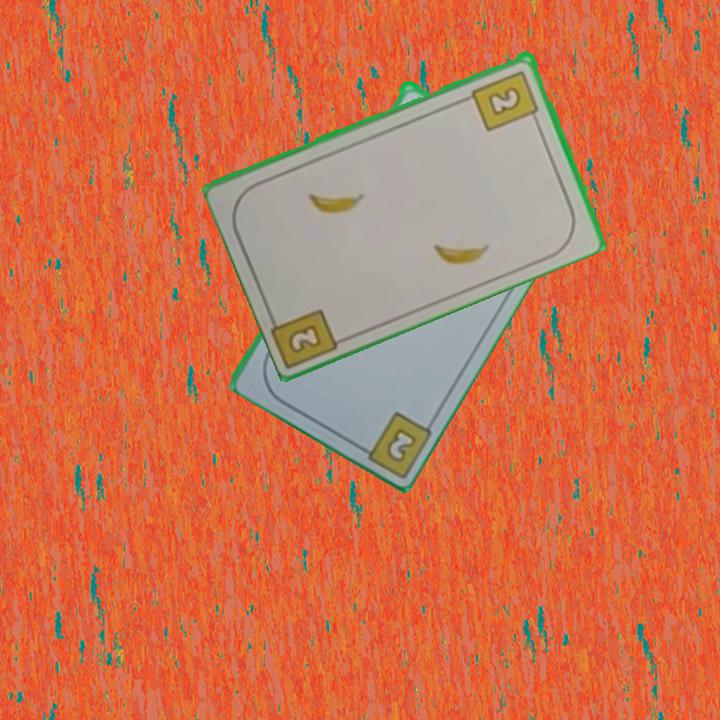2b: (469, 66, 542, 134), (382, 423, 419, 465), (284, 320, 325, 356)
